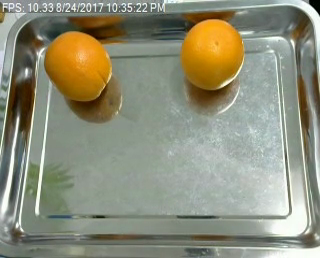Orange: (44, 29, 115, 102), (178, 18, 245, 89)
